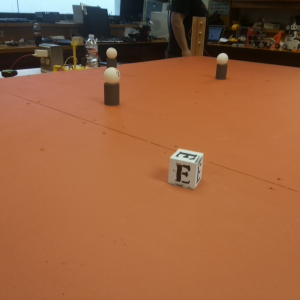blockE: (169, 148, 205, 188)
corner: (190, 16, 205, 60)
obstacle: (103, 67, 122, 106), (216, 53, 226, 82), (107, 49, 116, 65)
